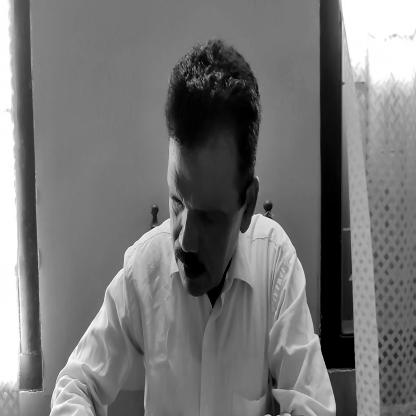Distracted: (164, 42, 247, 298)
